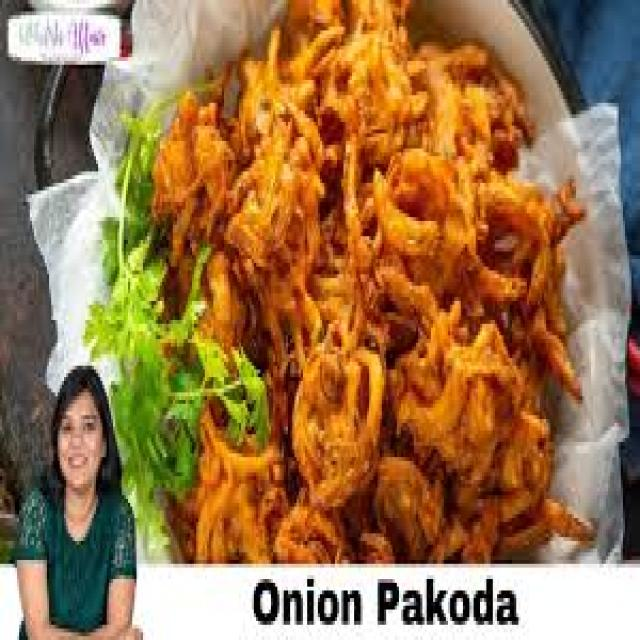BAJI: (137, 0, 582, 562)
